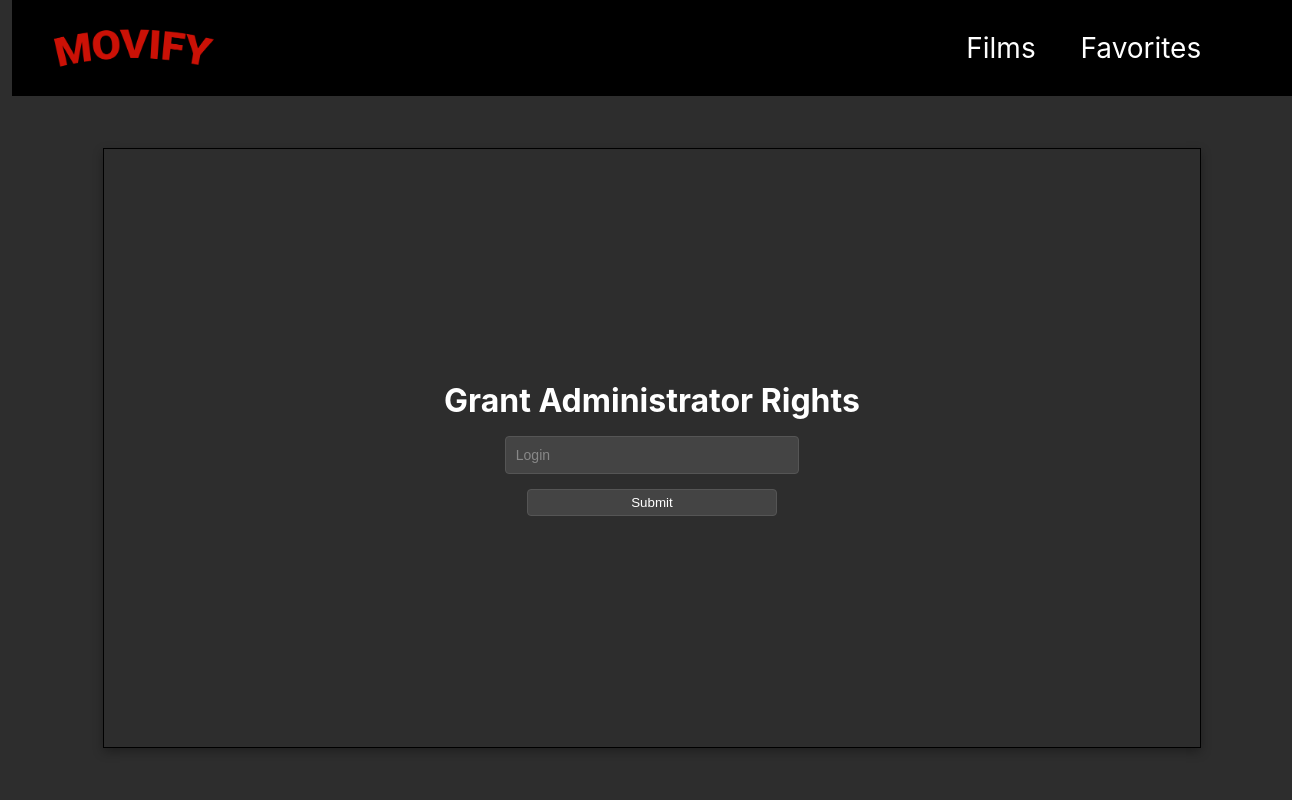
Test: Rights Component › shows an error if login format is incorrect
In the field with placeholder "Login": (652, 454) [505,436,799,474], type "1invalid"
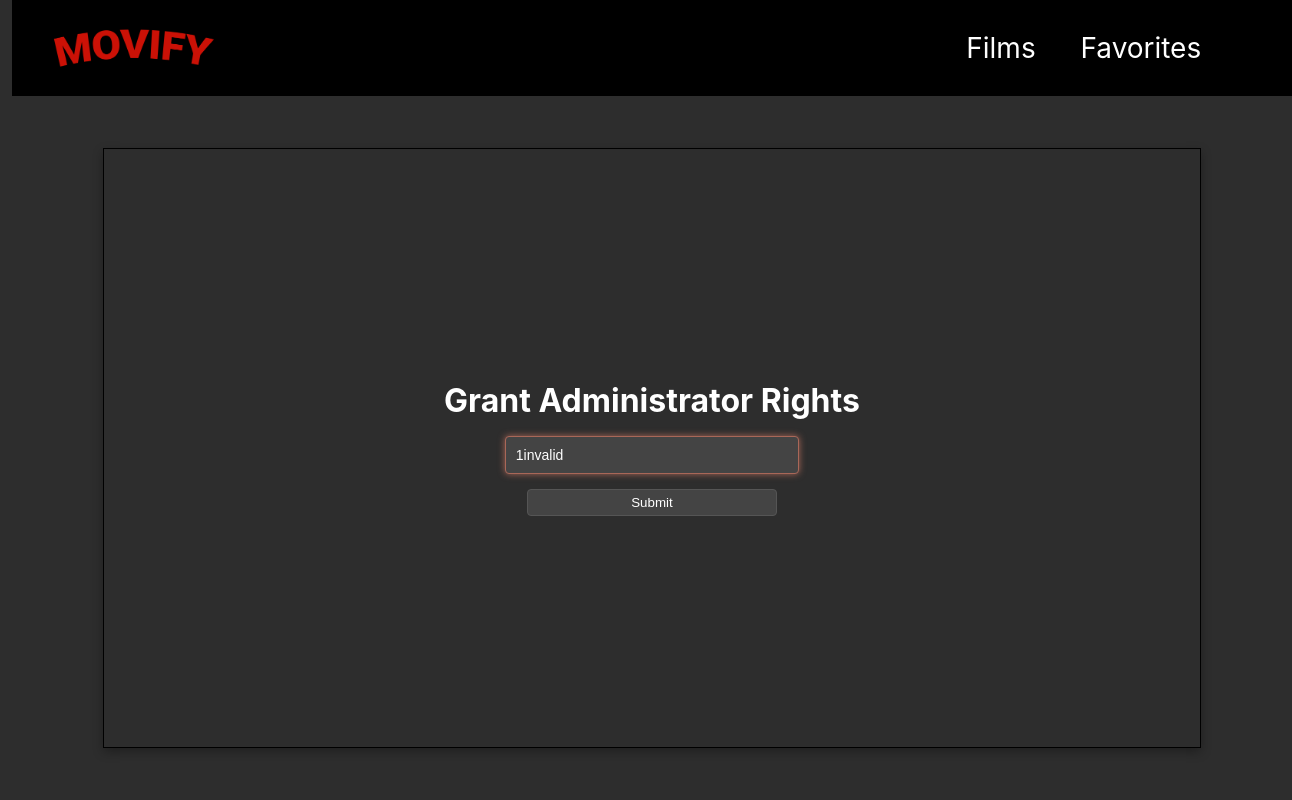
Click the button "Submit": (652, 502) [527,488,777,516]
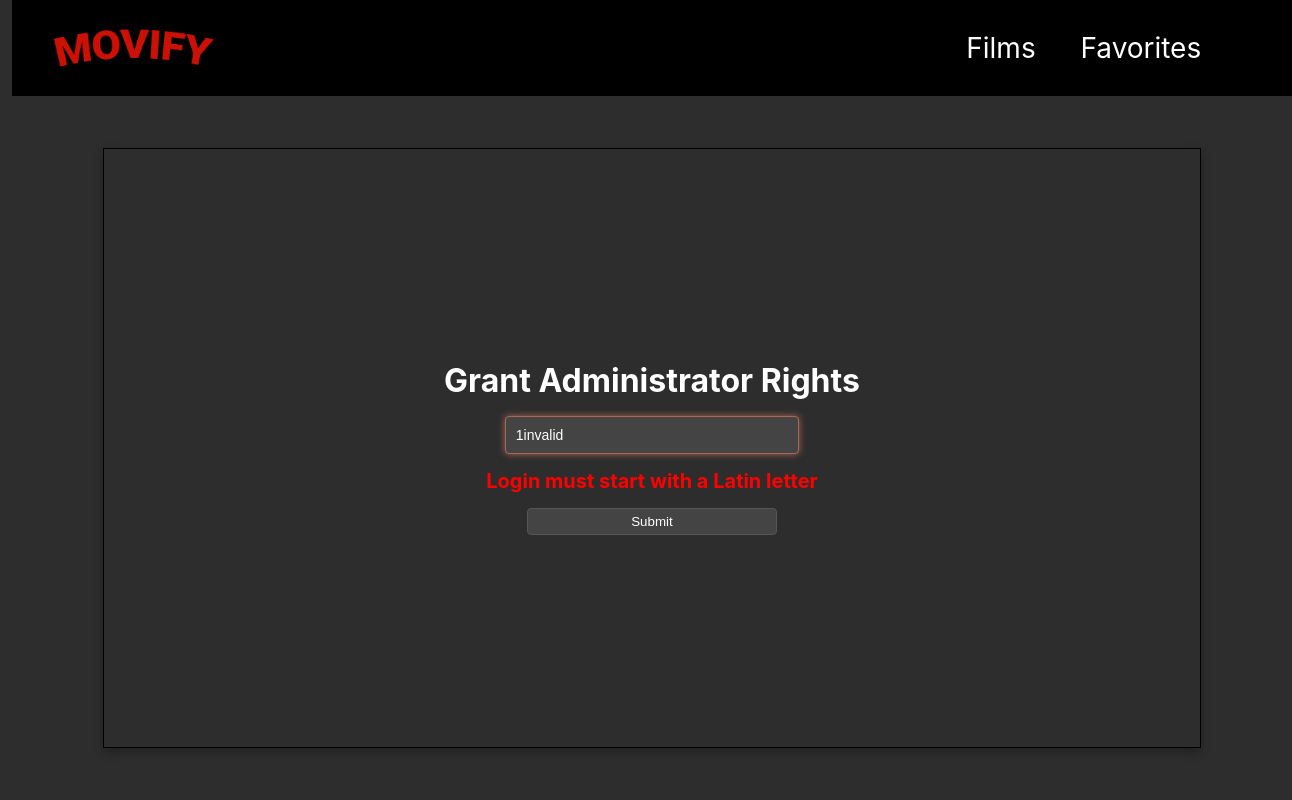
Now the text "Login must start with a Latin letter" is shown, box [486,469,818,493]
